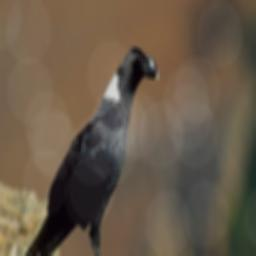Crow: (21, 44, 160, 256)
